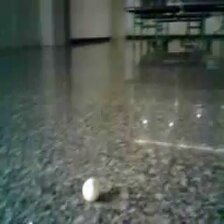w: (81, 176, 102, 201)
